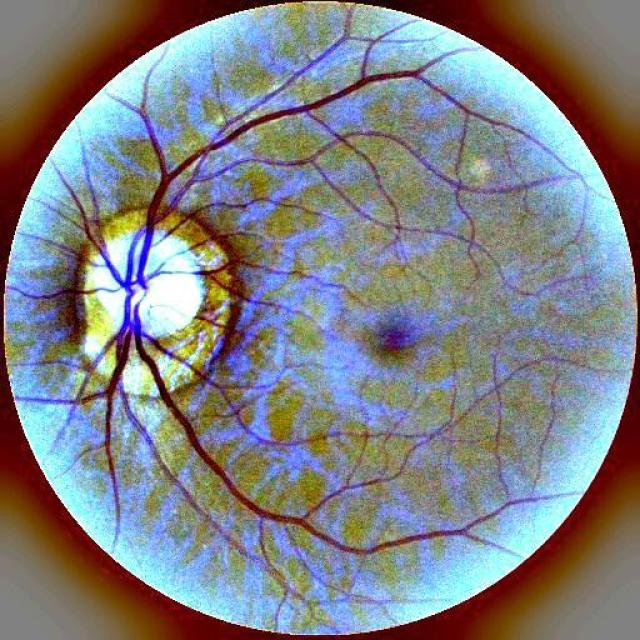Macula: (361, 309, 419, 362)
Nerves: (56, 89, 359, 556)
Optic Disk: (94, 231, 203, 333)
